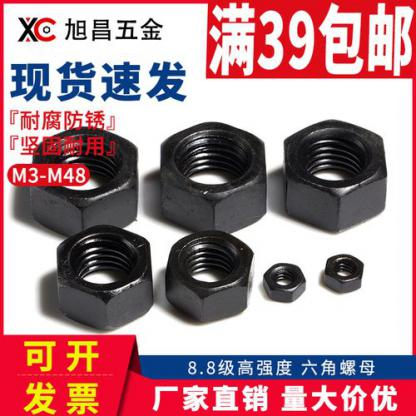FOD: (29, 122, 140, 234), (159, 119, 268, 231), (283, 118, 388, 232), (54, 222, 157, 330), (164, 225, 254, 327), (261, 260, 308, 306), (322, 252, 367, 293)
